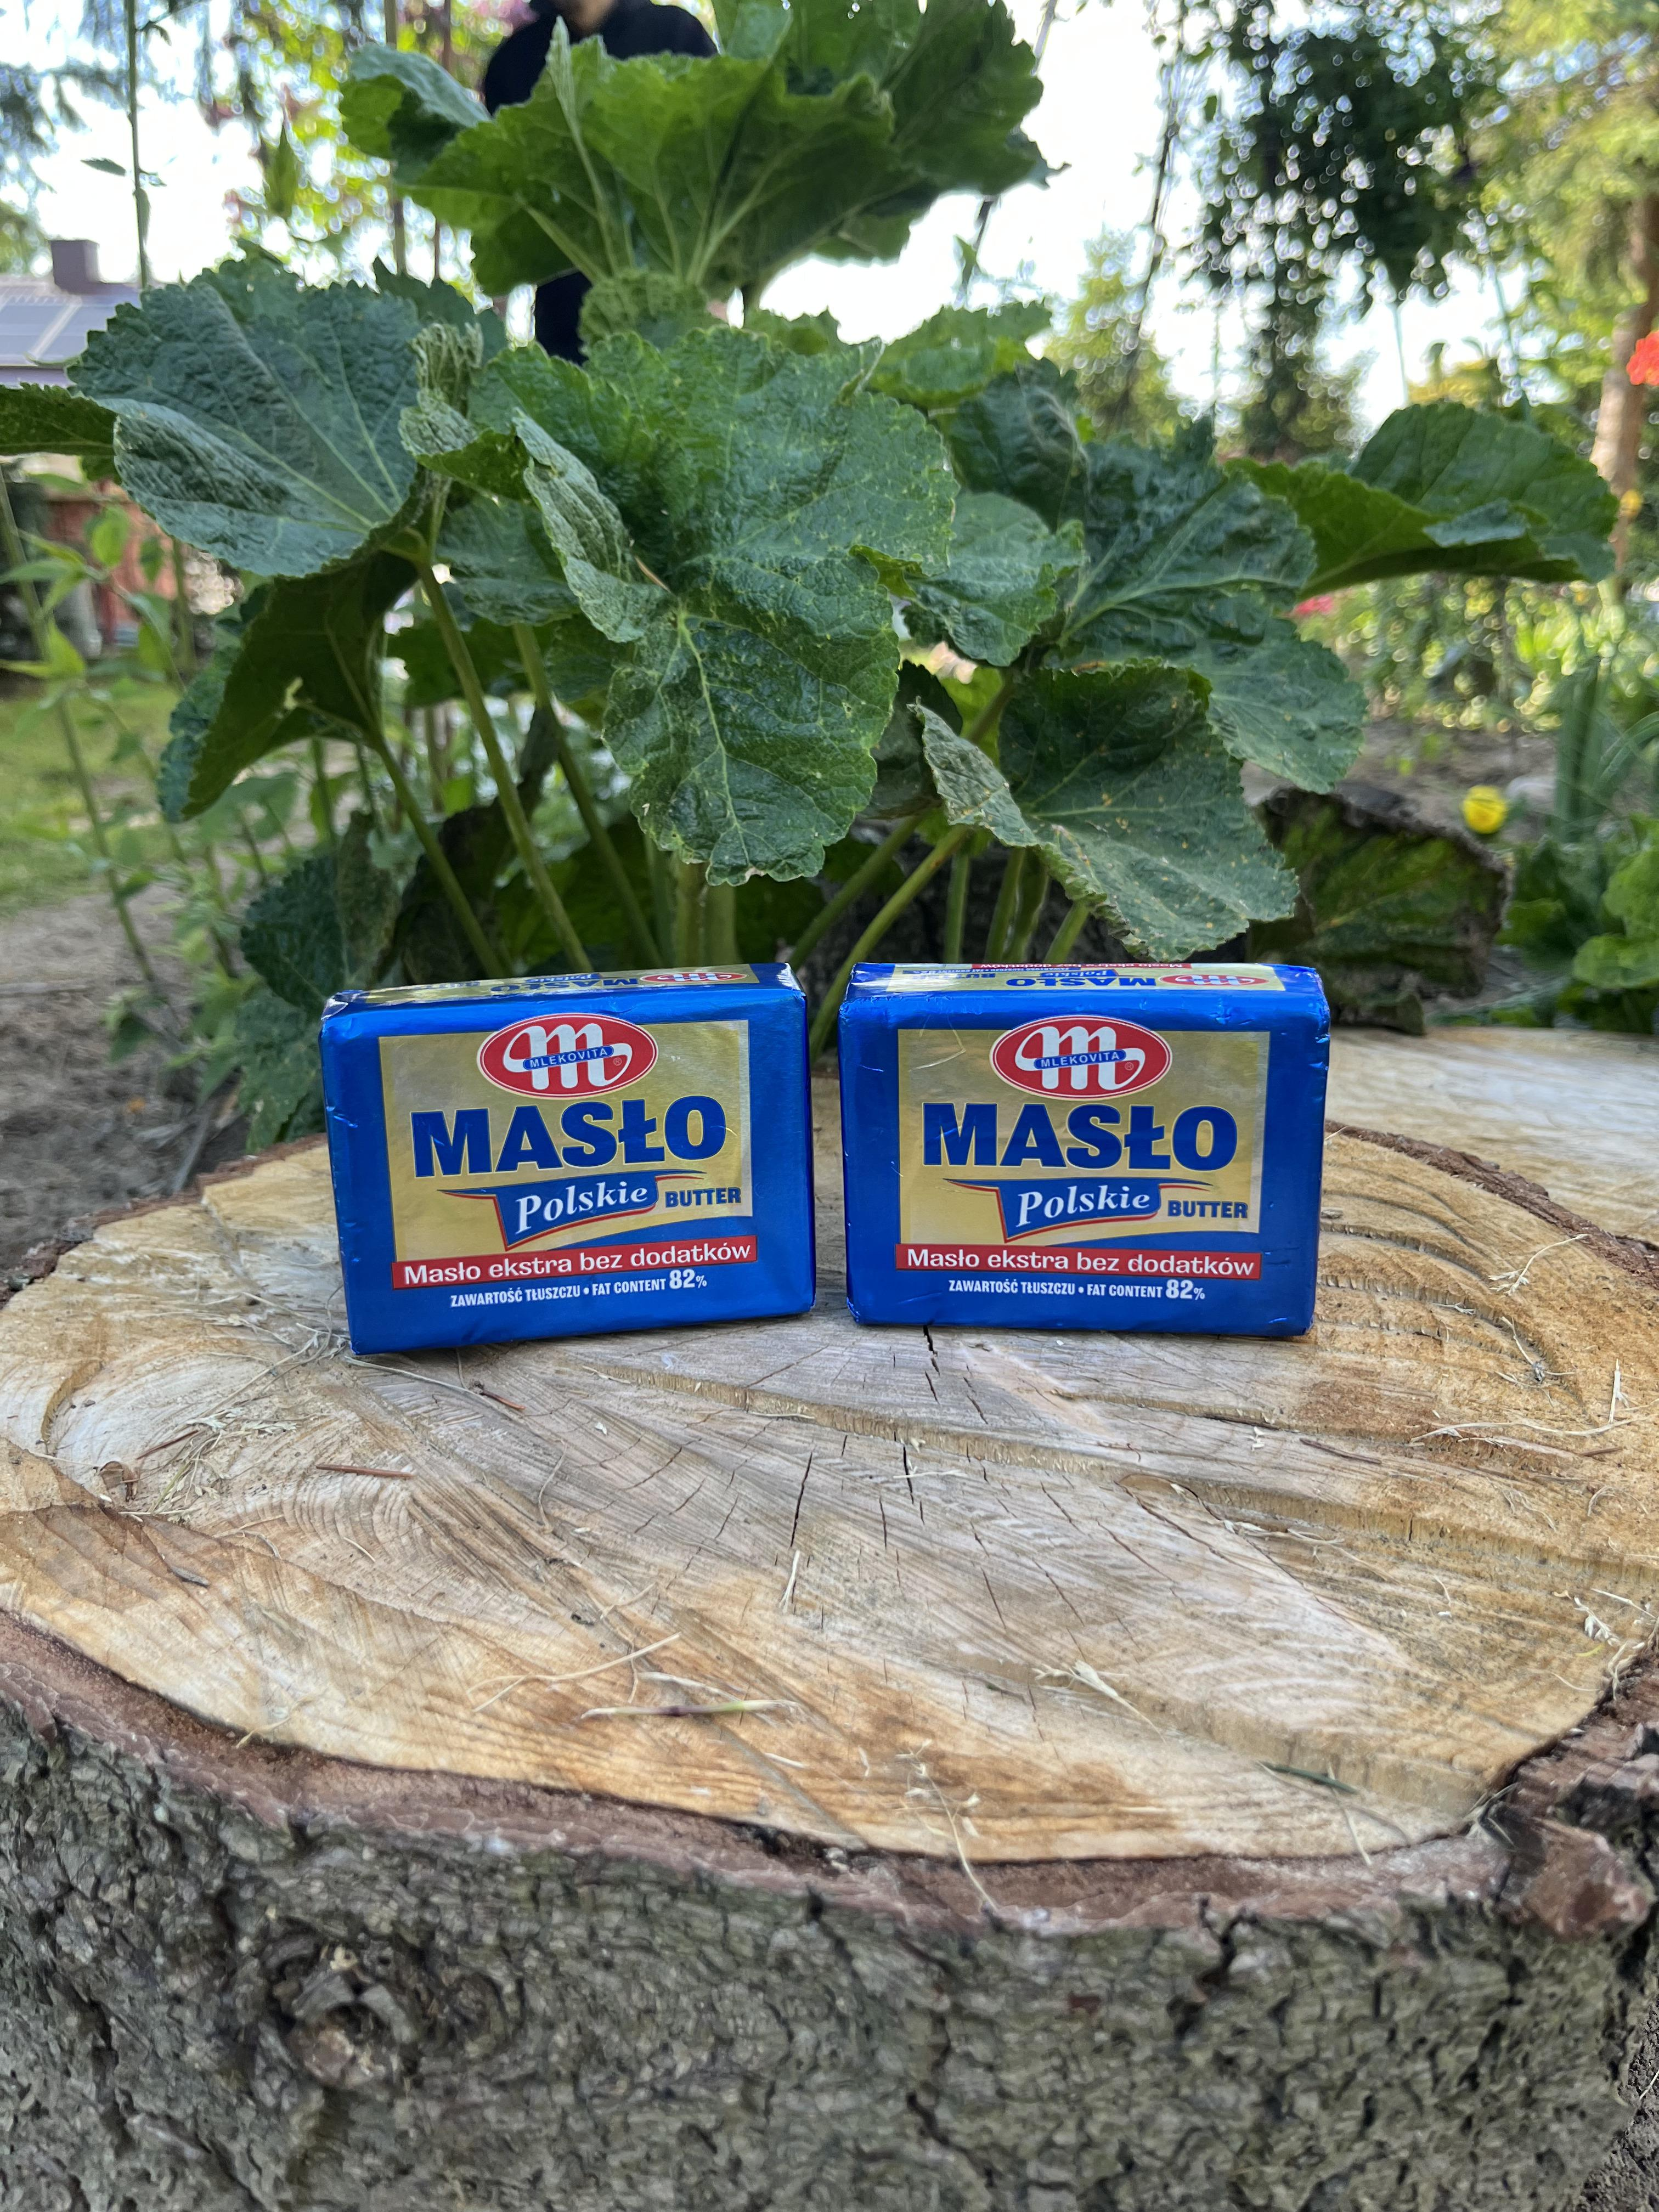Butter: (319, 965, 823, 1336), (847, 965, 1326, 1350)
